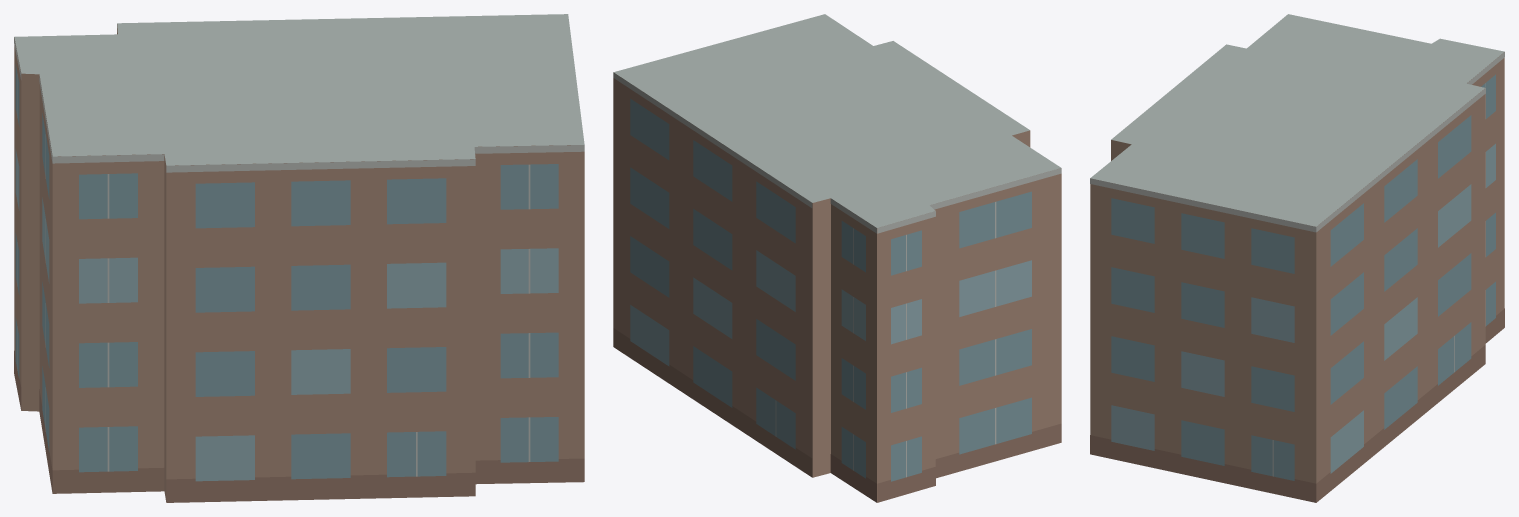
Rendered from survey-upis-32889208.glb.
3 renders of one model, left to right at view 1: azimuth 30°, elevation 25°; view 2: azimuth 150°, elevation 25°; view 3: azimuth 270°, elevation 25°, orthographic. The views are drawn at different scales.
Parts seen in each view (by area): view 1: survey-upis-32889208.tmp; view 2: survey-upis-32889208.tmp; view 3: survey-upis-32889208.tmp.
Boxes of the visible parts, x1,y1,x2,y2 form: survey-upis-32889208.tmp: [14, 14, 584, 502]; survey-upis-32889208.tmp: [613, 14, 1061, 502]; survey-upis-32889208.tmp: [1090, 14, 1504, 502].
Bounding box in the file's own units: 19.52 × 11.8 × 16.07.
